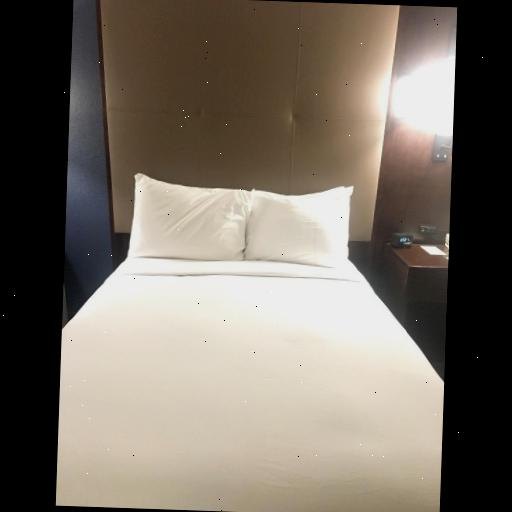clean_bed: (52, 173, 439, 512)
organised_pillow: (124, 176, 352, 272)
